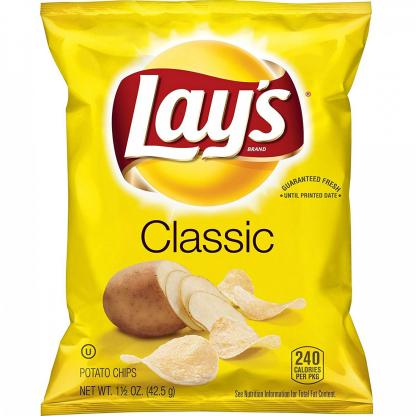plastic: (40, 0, 372, 416)
